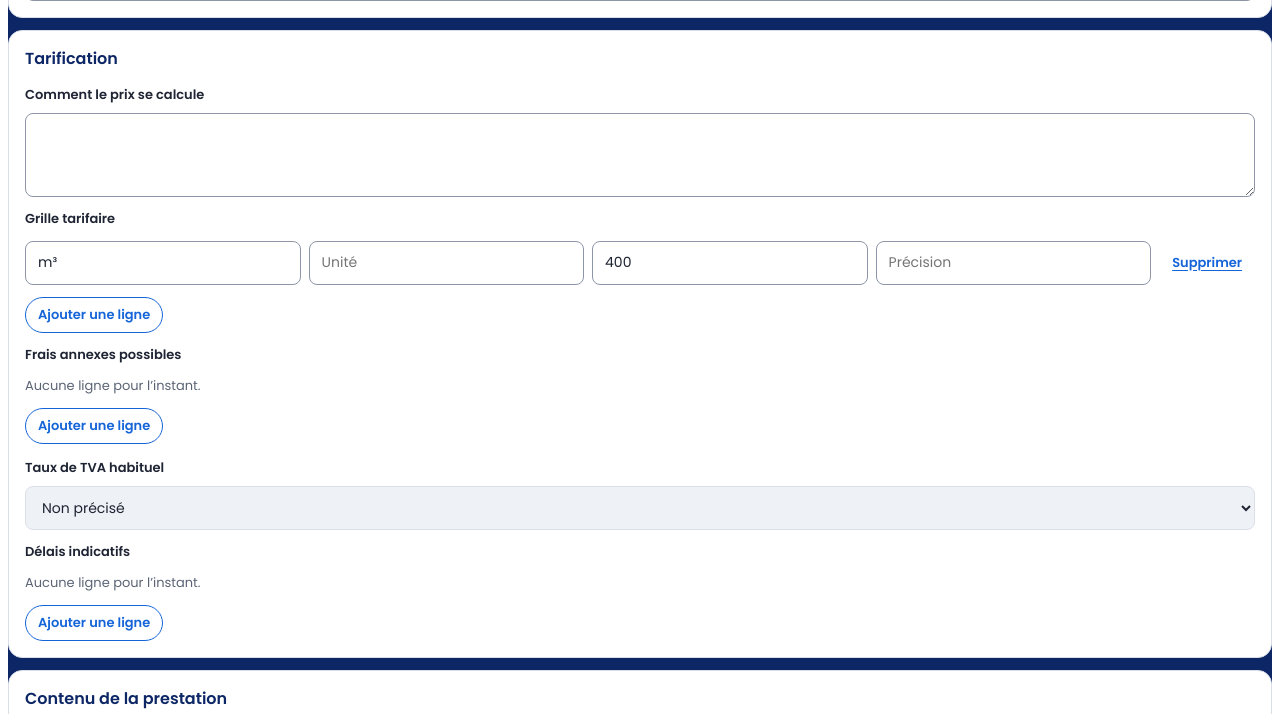
EditeurFiche › ajoute puis supprime une ligne de la grille
The width and height of the screenshot is (1280, 714).
Later steps or results of the test are not shown.
(page scrolled)
Click the button "Ajouter une ligne" below "Grille tarifaire". click: (94, 314)
box: top-left (25, 296), bottom-right (163, 332)
(page scrolled)
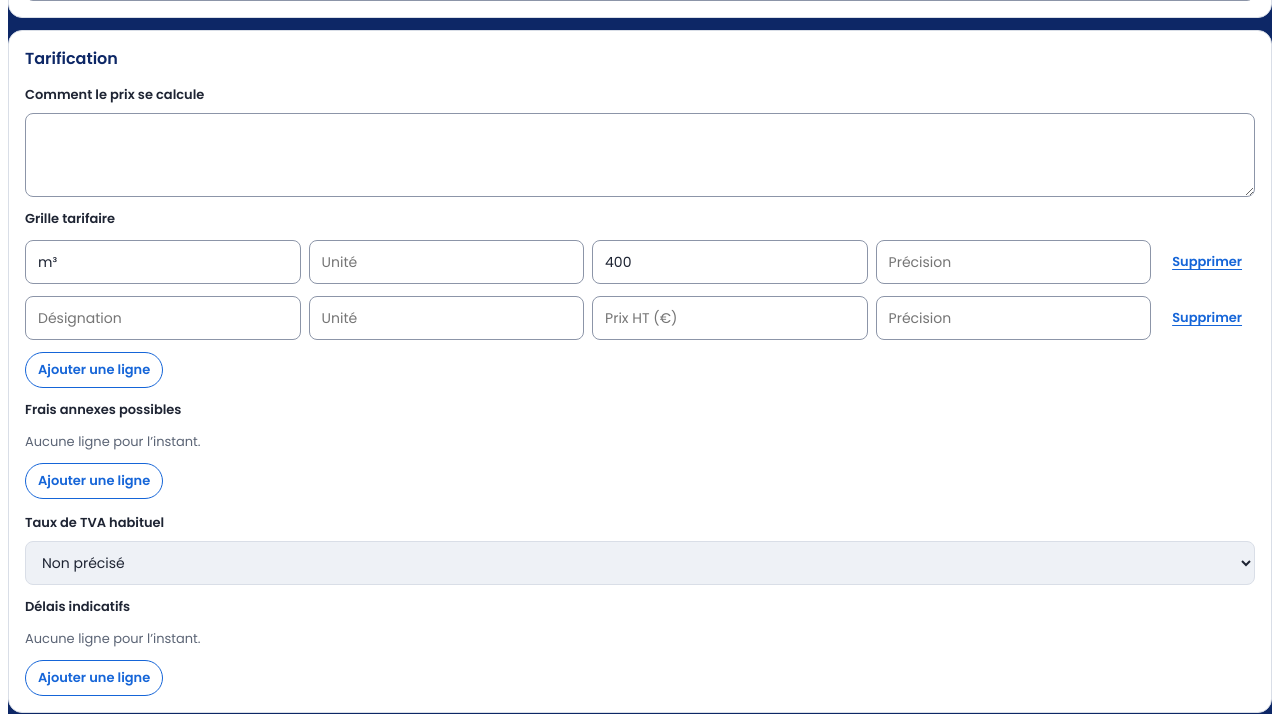
expect the field named "Grille tarifaire, ligne 2 : Désignation" is shown: met, box top-left (25, 296), bottom-right (300, 340)
